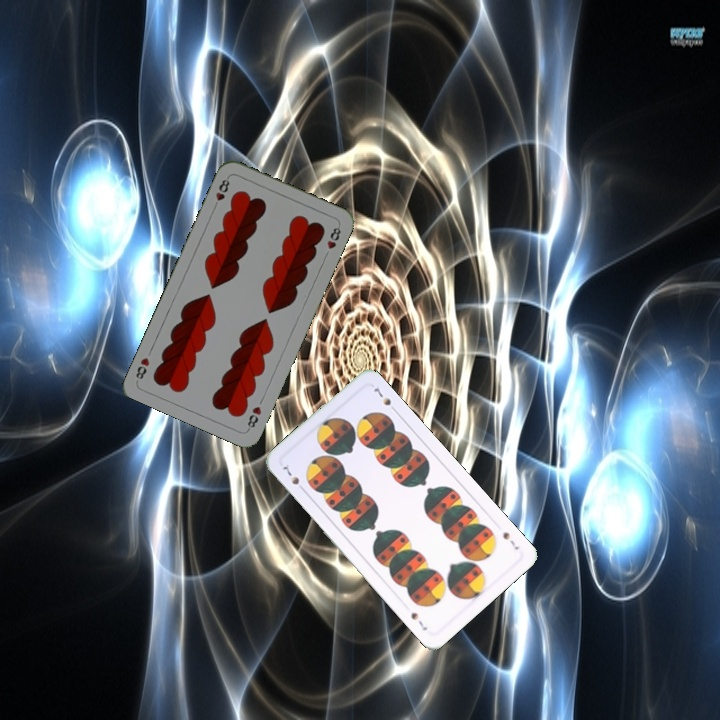H8: (209, 173, 232, 211), (243, 402, 264, 433)
S7: (279, 462, 308, 494), (499, 528, 522, 553)
